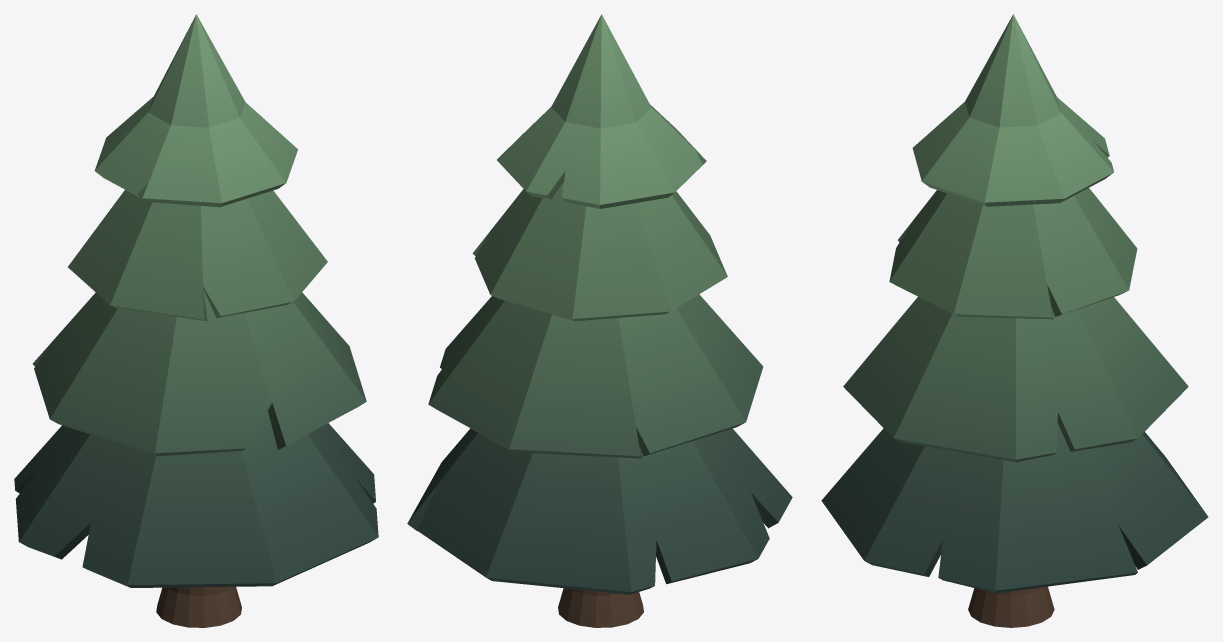
Rendered from Tree1.fbx.
3 views of the same model, side by side, from view 1: azimuth 30°, elevation 25°; view 2: azimuth 150°, elevation 25°; view 3: azimuth 270°, elevation 25° (orthographic).
Parts seen in each view (by area): view 1: tree1; view 2: tree1; view 3: tree1.
Part boxes in pixels (x1,y1,x2,y2): tree1: (14, 14, 378, 627); tree1: (407, 14, 792, 627); tree1: (821, 14, 1208, 627).
Size of the model in its own units: 550 by 932 by 550.
